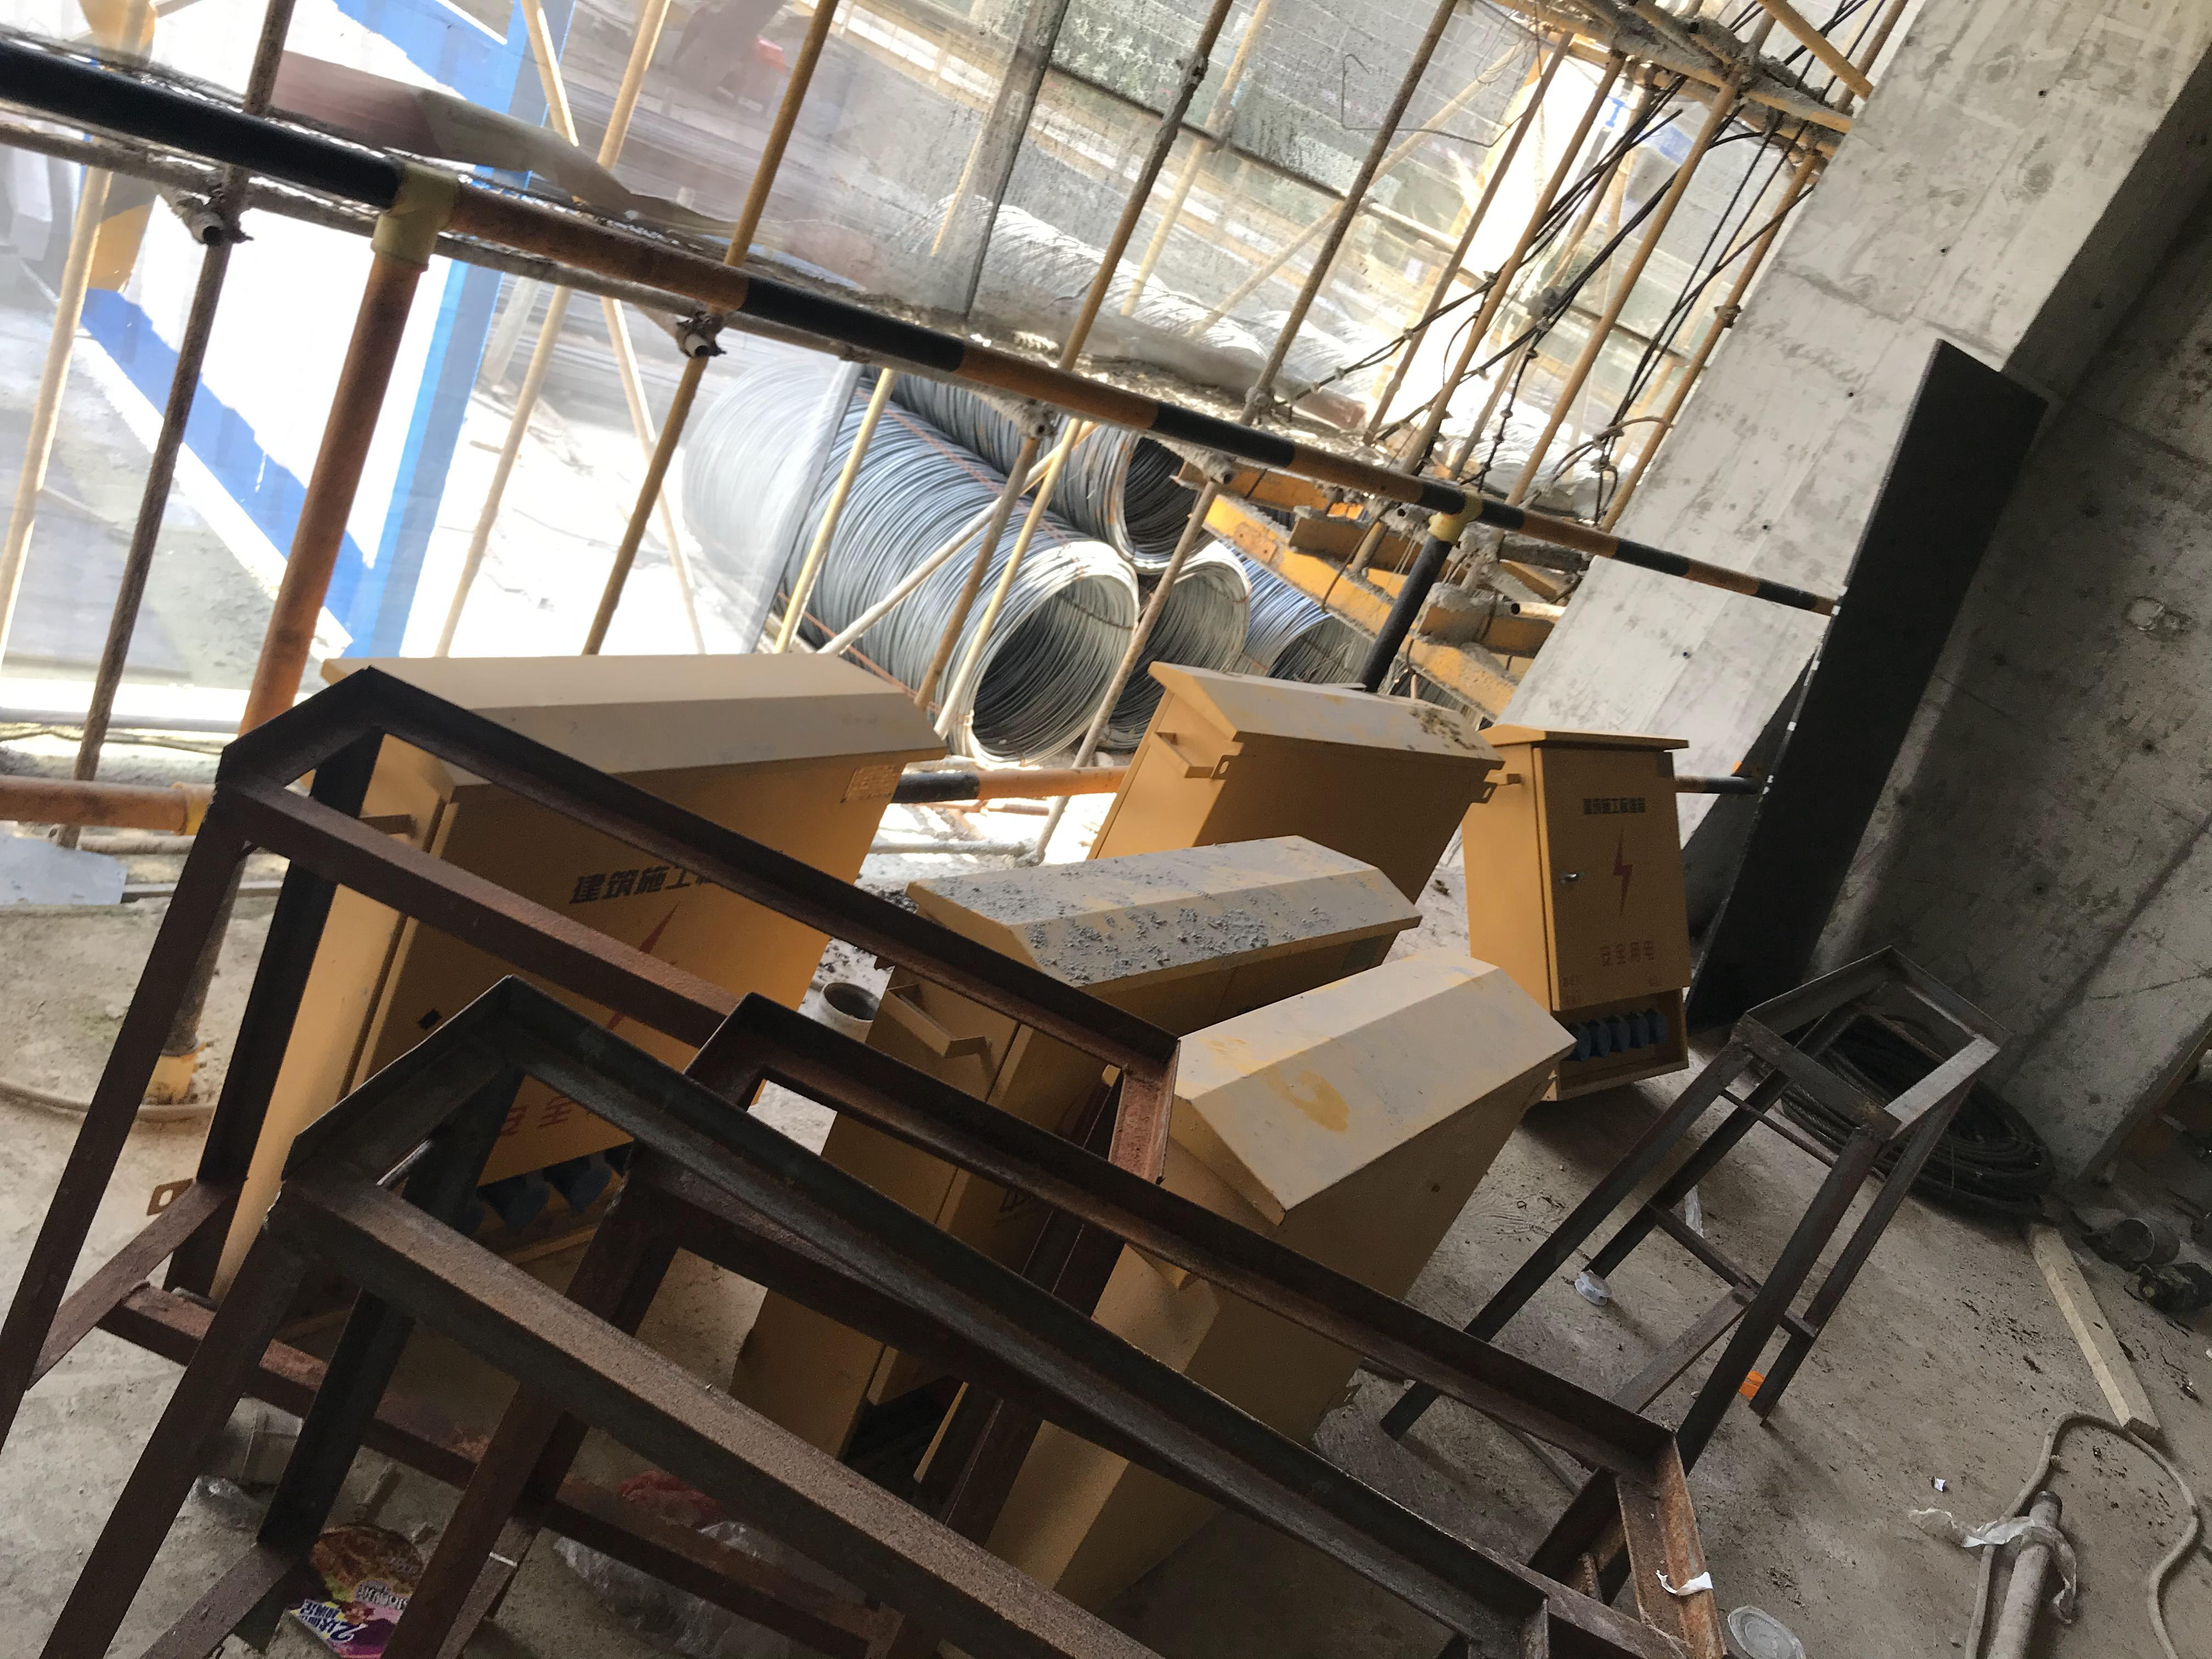ebox: (911, 830, 1494, 1574), (319, 631, 836, 1316), (1136, 652, 1491, 932), (1474, 706, 1705, 1105)
